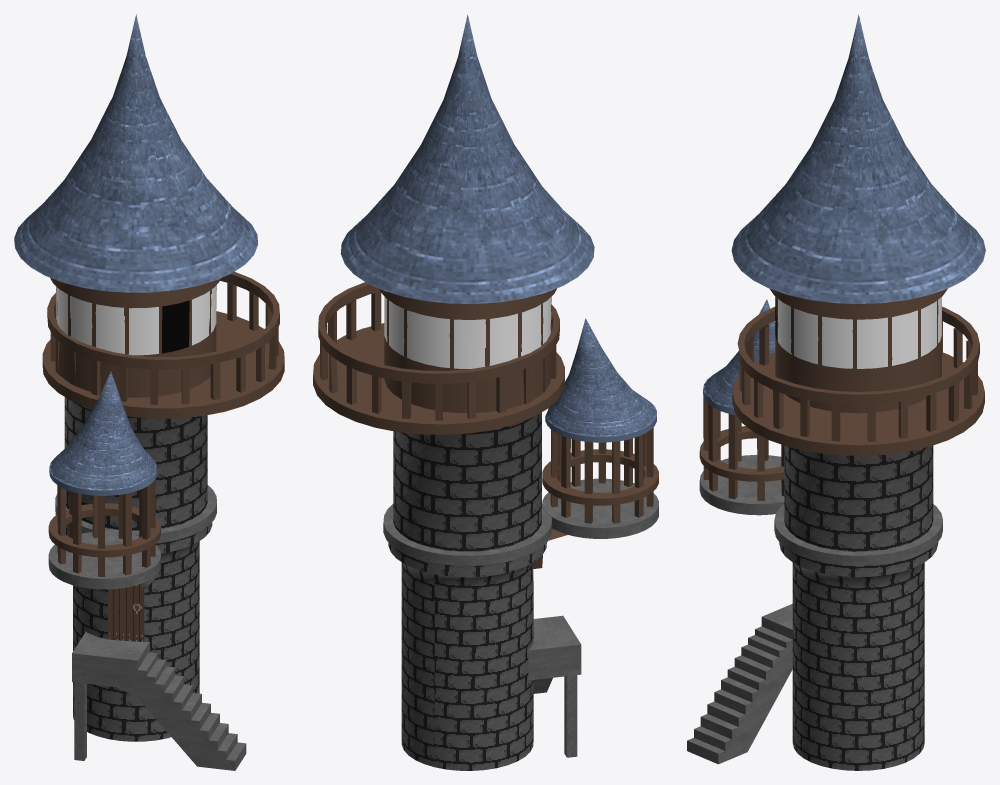
File: WizardTower.fbx
The picture shows the model from 3 angles, left to right: view 1: azimuth 30°, elevation 25°; view 2: azimuth 150°, elevation 25°; view 3: azimuth 270°, elevation 25°; orthographic projection. The views are drawn at different scales.
Visible parts, largest first — view 1: Cylinder; view 2: Cylinder; view 3: Cylinder.
Boxes of the visible parts, x1,y1,x2,y2 form: Cylinder: (14,14,284,770); Cylinder: (313,15,658,770); Cylinder: (687,14,985,770).
Bounding box in the file's own units: 1217 × 3163 × 1161.
